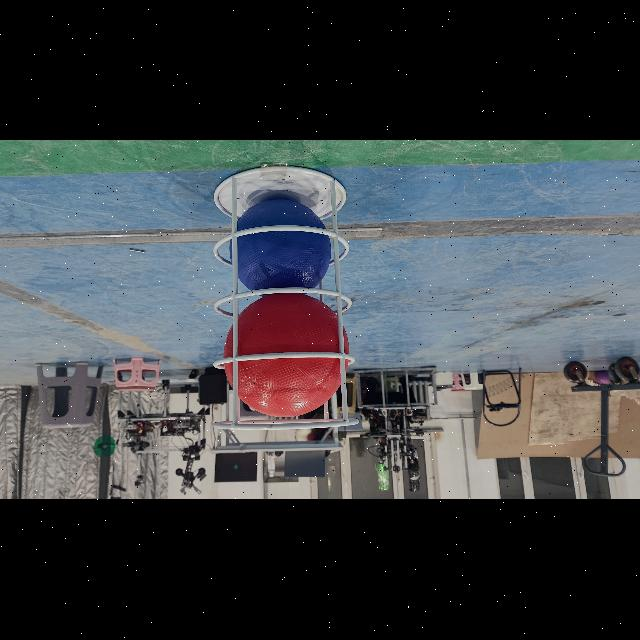B: (230, 198, 330, 294)
R: (223, 294, 349, 418)
S: (208, 156, 366, 440)
